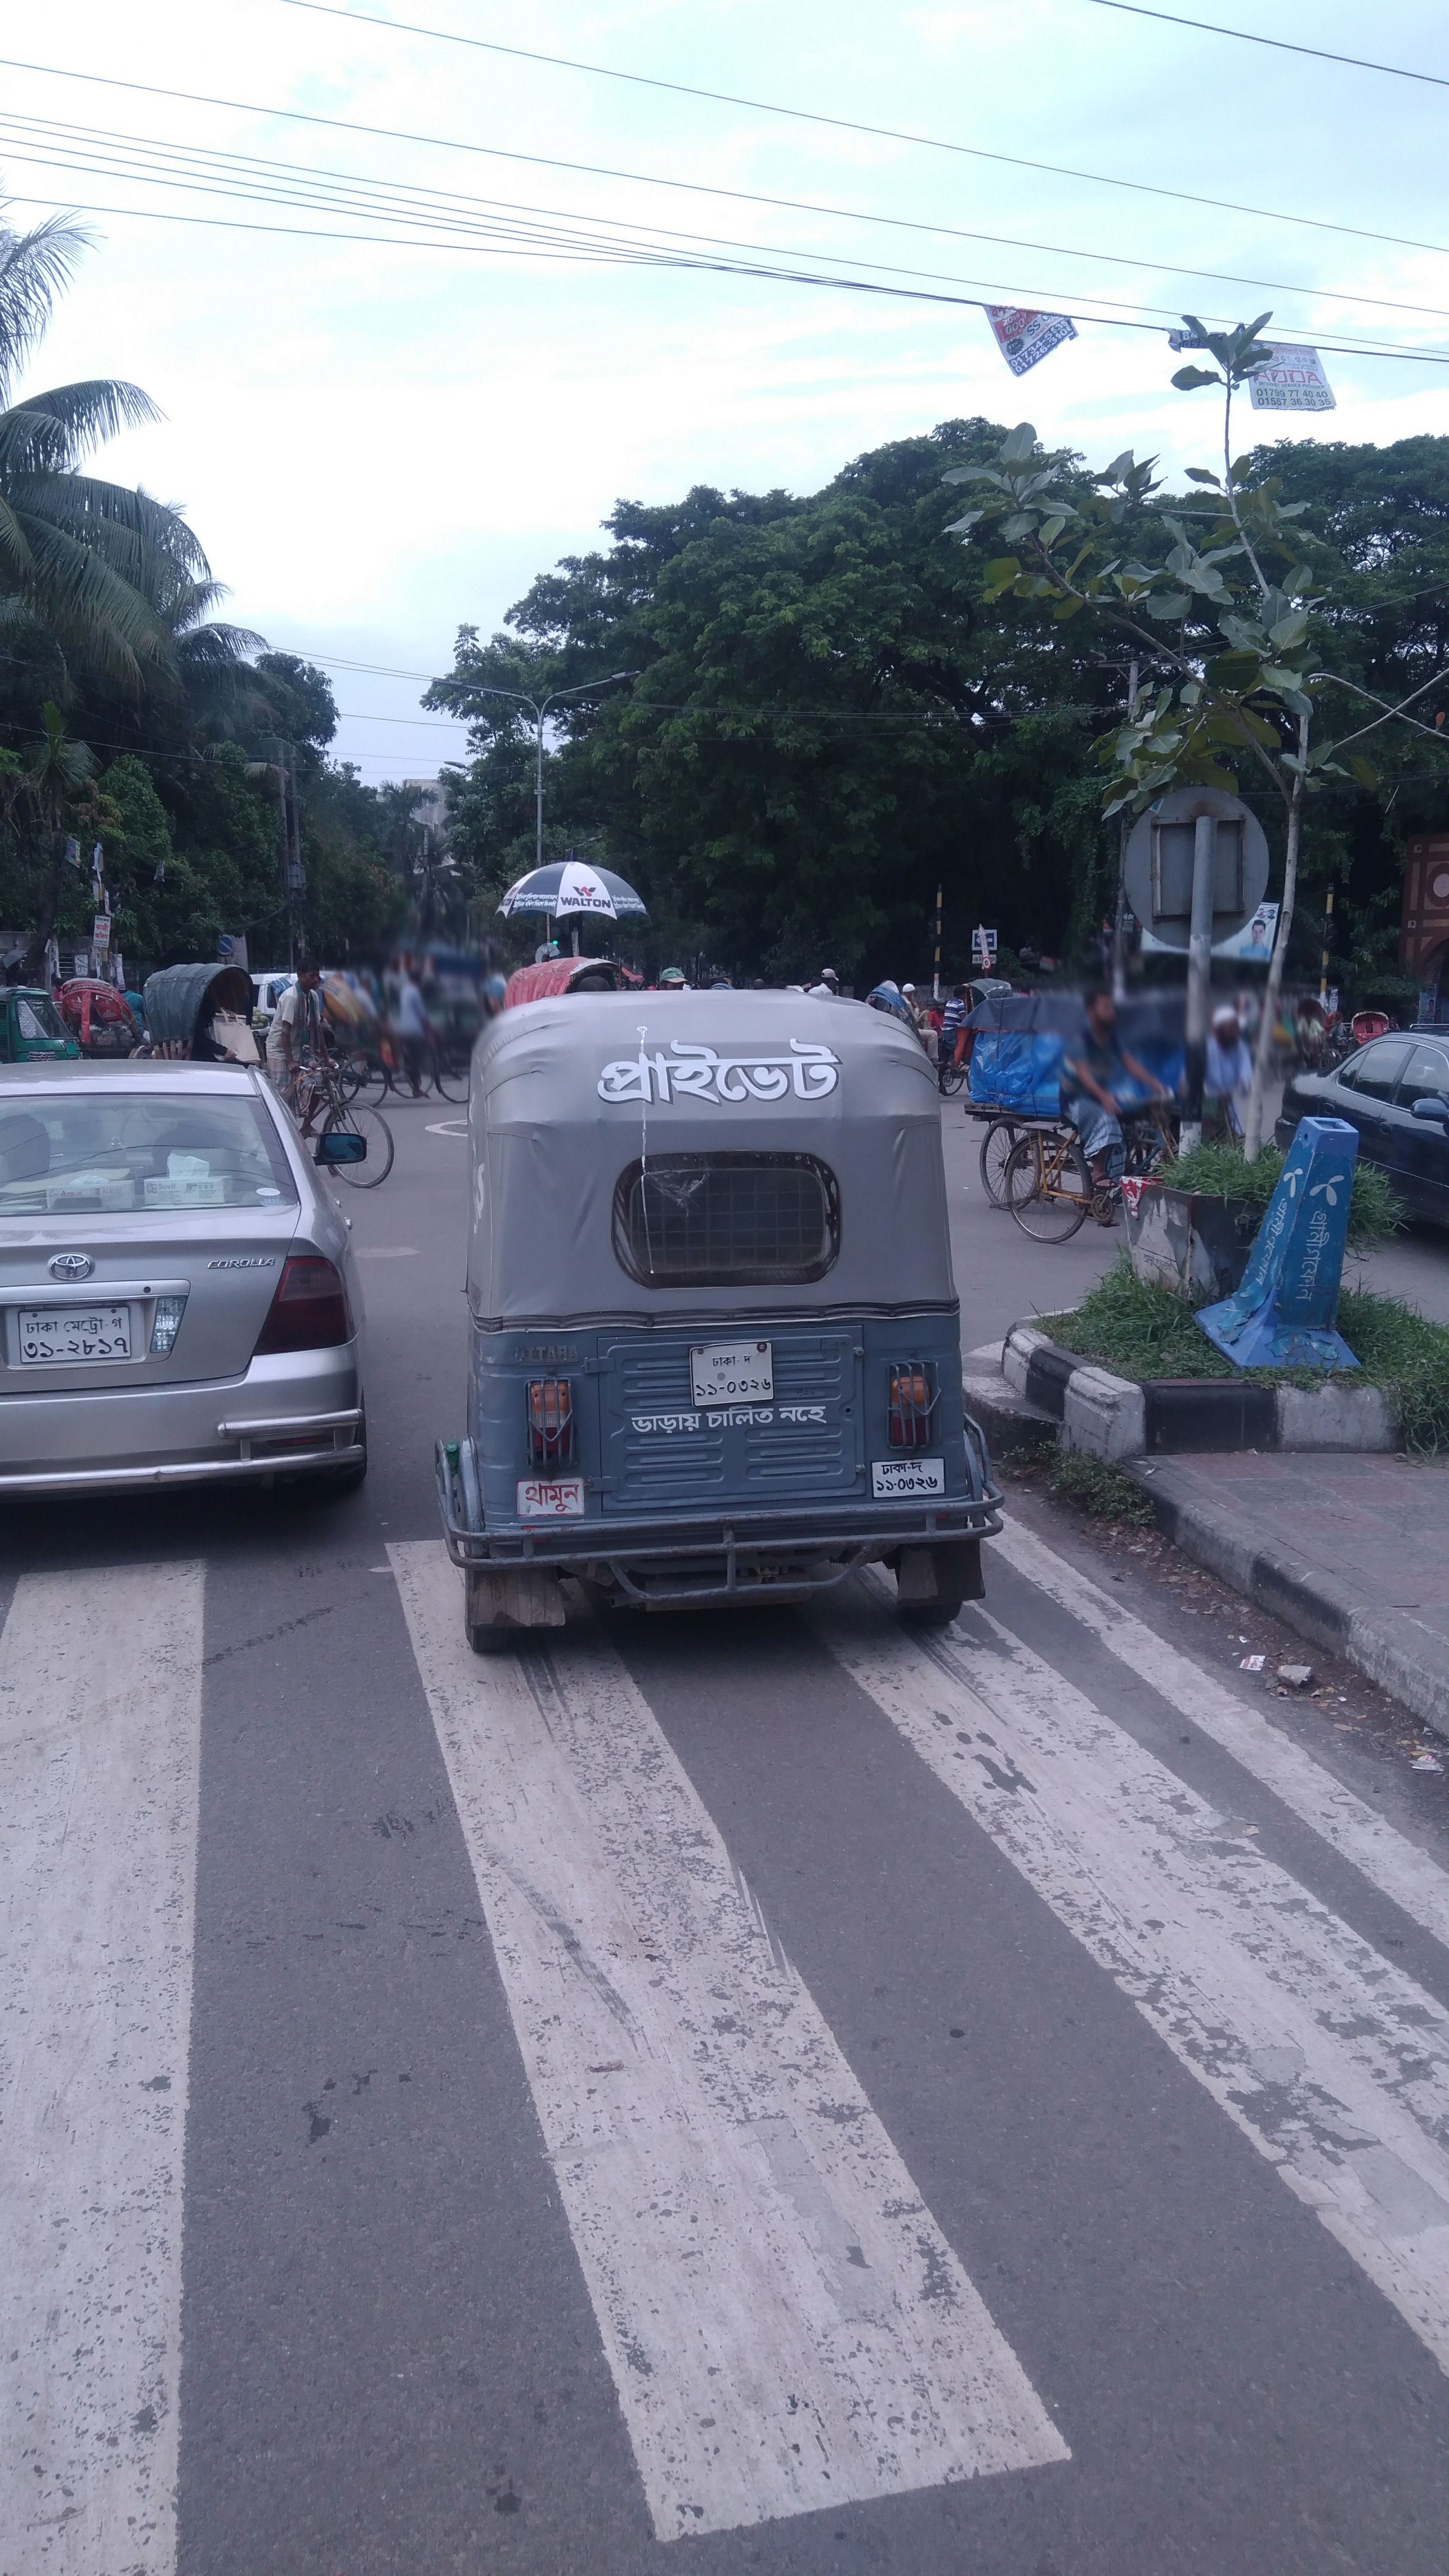car: (0, 1046, 393, 1520)
cng: (409, 968, 1024, 1670)
van: (961, 977, 1237, 1237)
